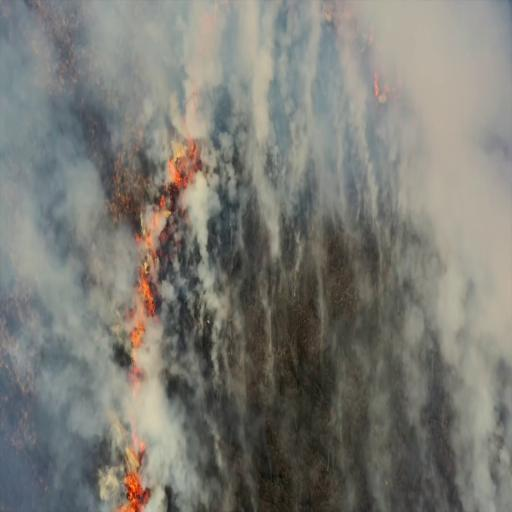fire: (171, 125, 206, 185), (136, 234, 156, 316), (119, 454, 147, 509)
smoke: (0, 0, 105, 290), (0, 290, 118, 512), (173, 7, 389, 105), (436, 74, 512, 253), (238, 0, 288, 268), (189, 226, 225, 512), (402, 0, 511, 94), (318, 289, 362, 512), (396, 264, 435, 512), (358, 276, 397, 504), (345, 0, 382, 233), (445, 242, 512, 370), (122, 18, 175, 150), (129, 362, 179, 446)
